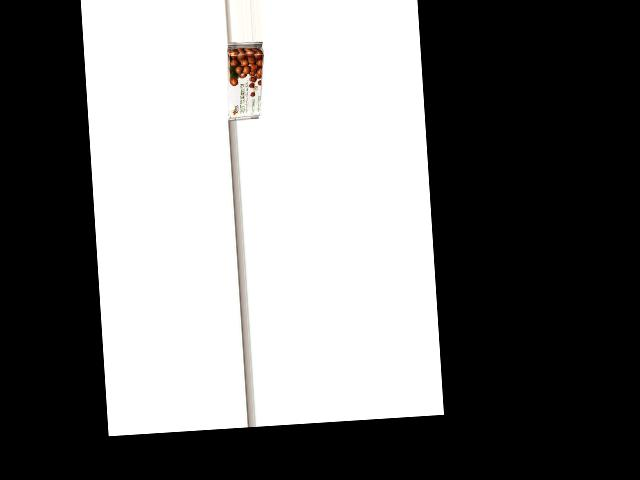chocolate: (226, 41, 268, 121)
